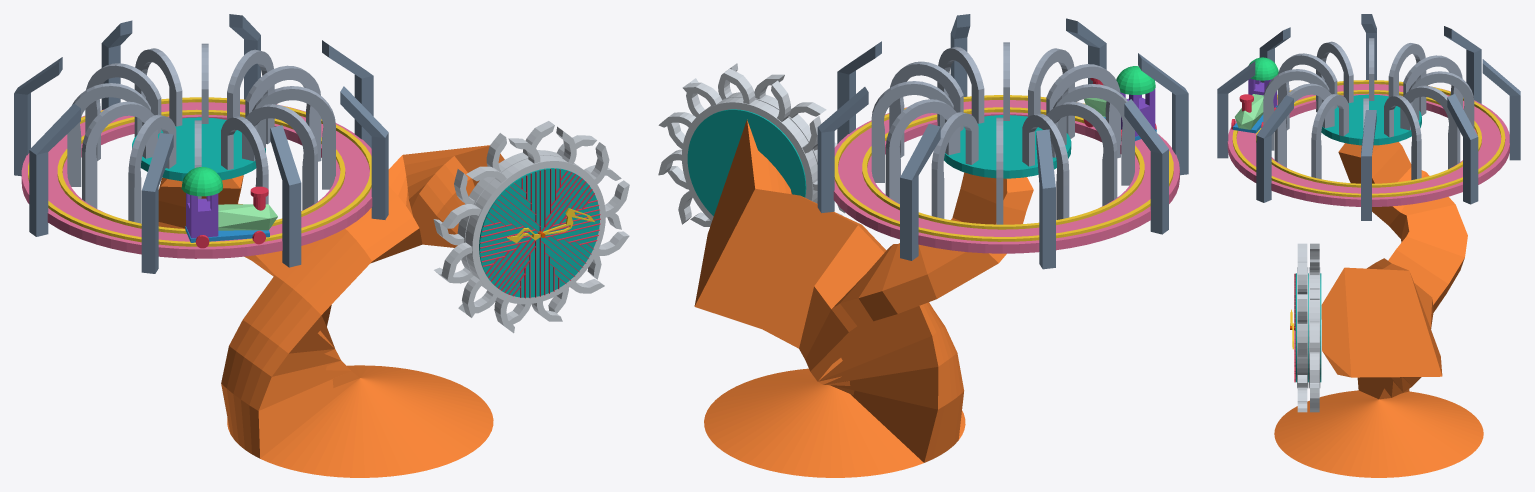
File: watchface.fbx
The picture shows the model from 3 angles, left to right: view 1: azimuth 30°, elevation 25°; view 2: azimuth 150°, elevation 25°; view 3: azimuth 270°, elevation 25°; orthographic projection. The views are drawn at different scales.
Visible parts, largest first — view 1: watchbase, railbase, watch-body, rail-rail, ring, Cylinder, Cube.016, Cube.014, Cube.013, Cube.018, Cube, Cube.004 (+17 smaller); view 2: watchbase, railbase, watch-body, rail-rail, Cylinder, ring.001, Cube.017, Cube.014, Cube.008, Cube.015, Cube.019, Cube.007 (+17 smaller); view 3: watchbase, railbase, rail-rail, Cylinder, Cube.018, Cube.015, Cube.005, Cube.007, Cube.008, Cube.017, Cube.012, Cube.016 (+18 smaller).
Boxes of the visible parts, x1,y1,x2,y2 form: watchbase: (158, 145, 504, 477); railbase: (21, 102, 372, 258); watch-body: (479, 168, 599, 297); rail-rail: (28, 97, 371, 246); ring: (465, 155, 605, 304); Cylinder: (132, 117, 265, 181); Cube.016: (270, 125, 301, 267); Cube.014: (29, 103, 80, 236); Cube.013: (141, 133, 173, 273); Cube.018: (340, 86, 388, 219); Cube: (82, 101, 157, 208); Cube.004: (242, 104, 317, 210); watchbase: (694, 119, 1033, 477); railbase: (833, 100, 1179, 253); watch-body: (687, 109, 806, 216); rail-rail: (834, 95, 1173, 241); Cylinder: (944, 115, 1071, 178); ring.001: (681, 97, 817, 221); Cube.017: (900, 123, 940, 260); Cube.014: (1124, 99, 1168, 234); Cube.008: (885, 99, 960, 203); Cube.015: (817, 87, 868, 213); Cube.019: (1036, 129, 1055, 269); Cube.007: (871, 81, 953, 182); watchbase: (1274, 142, 1483, 477); railbase: (1227, 84, 1509, 206); rail-rail: (1232, 80, 1505, 197); Cylinder: (1321, 94, 1421, 145); Cube.018: (1256, 95, 1293, 202); Cube.015: (1447, 94, 1478, 204); Cube.005: (1311, 94, 1348, 179); Cube.007: (1384, 95, 1421, 179); Cube.008: (1400, 85, 1460, 169); Cube.017: (1482, 59, 1520, 160); Cube.012: (1361, 110, 1376, 220); Cube.016: (1217, 61, 1255, 158).
Size of the model in its own units: 1830 by 1248 by 1112.
